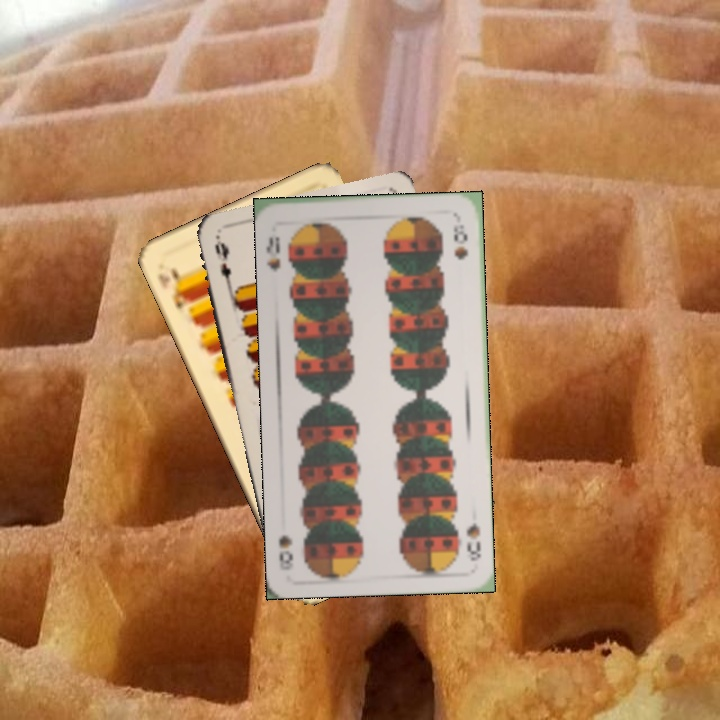E10: (167, 263, 194, 312)
E9: (211, 236, 240, 294)
S8: (462, 519, 483, 564), (262, 233, 283, 274)
